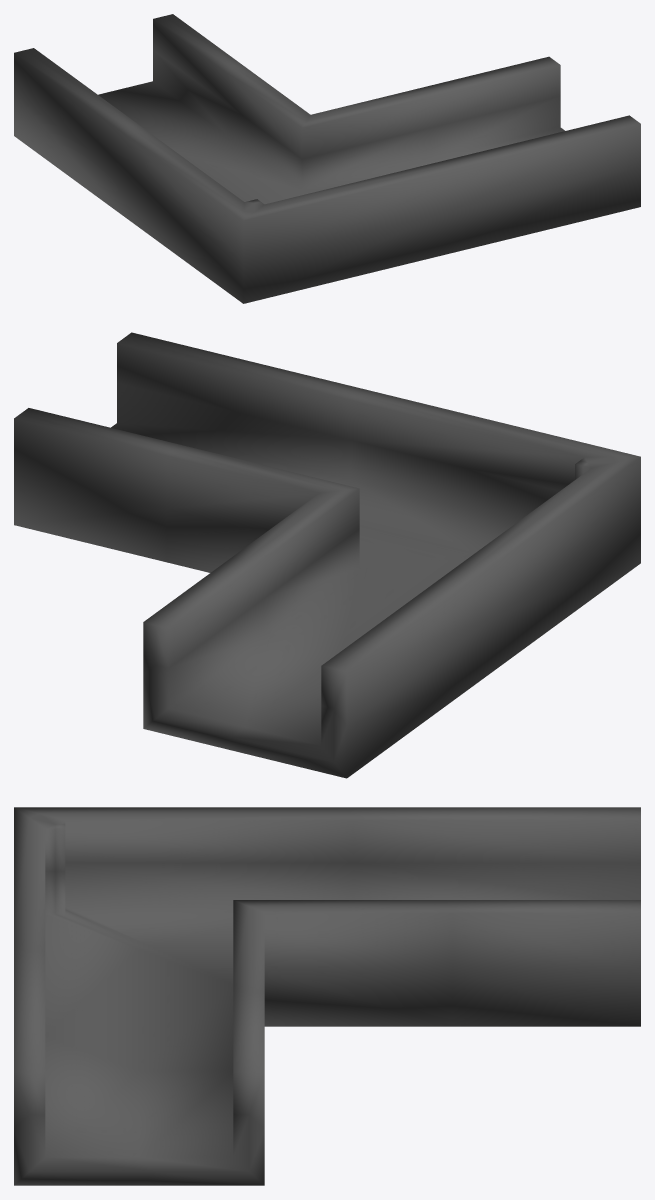
The picture shows the model from 3 angles, top to bottom: view 1: azimuth 30°, elevation 25°; view 2: azimuth 150°, elevation 25°; view 3: azimuth 270°, elevation 25°; orthographic projection. The views are drawn at different scales.
Visible parts, largest first — view 1: defaultobject; view 2: defaultobject; view 3: defaultobject.
Part boxes in pixels (x1,y1,x2,y2): defaultobject: [14, 14, 640, 303]; defaultobject: [14, 332, 640, 778]; defaultobject: [14, 807, 640, 1185].
Size of the model in its own units: 0.625 by 0.125 by 0.625.
1 material, 1 textured.
